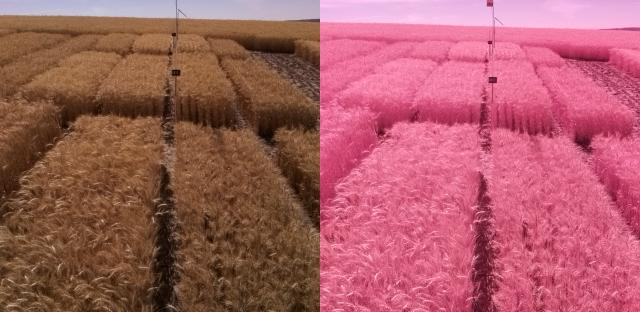field: (538, 65, 635, 144), (336, 58, 438, 120), (412, 61, 485, 125), (494, 60, 551, 134)
